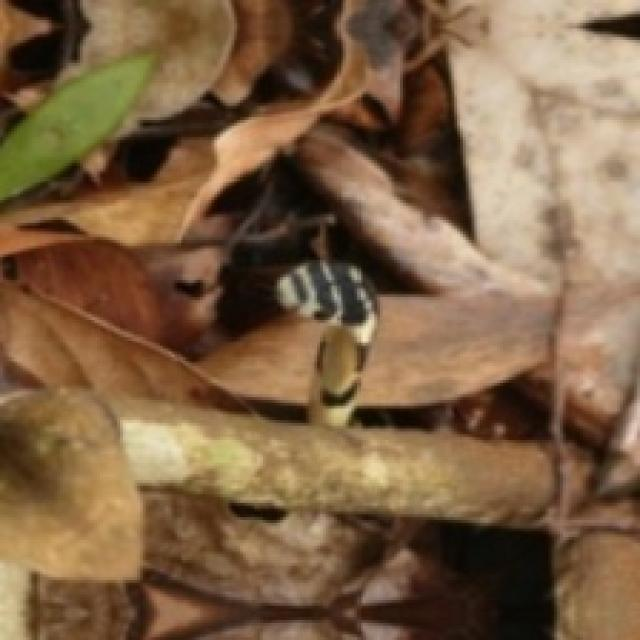king cobra: (274, 260, 374, 423)
